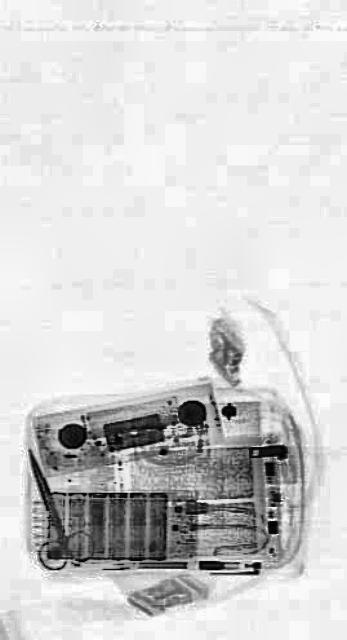Scissors: (7, 424, 95, 594)
